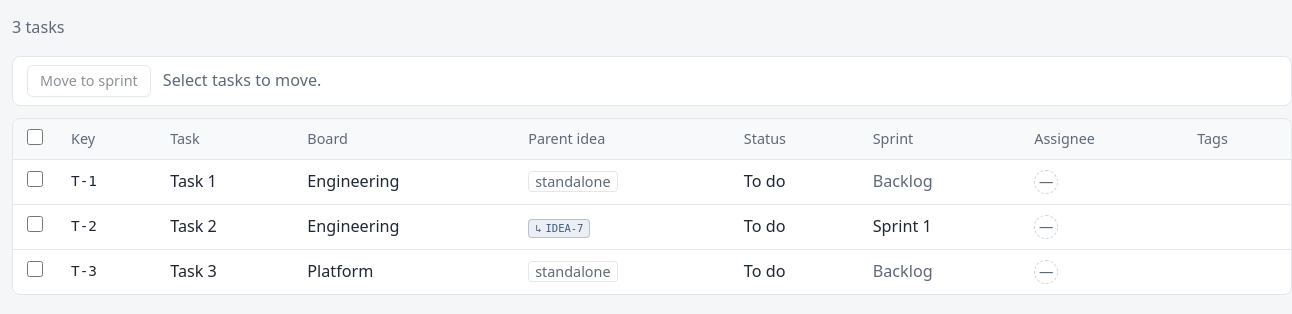
Scenario: selection and Move to sprint › enables the action for tasks from one board and offers that board’s open sprints
The image size is (1292, 314).
What coordinates should you click on to do the following:
click the checkbox named "Select T-1"
I would click on:
 (35, 179)
Its box is [27,171,43,187].
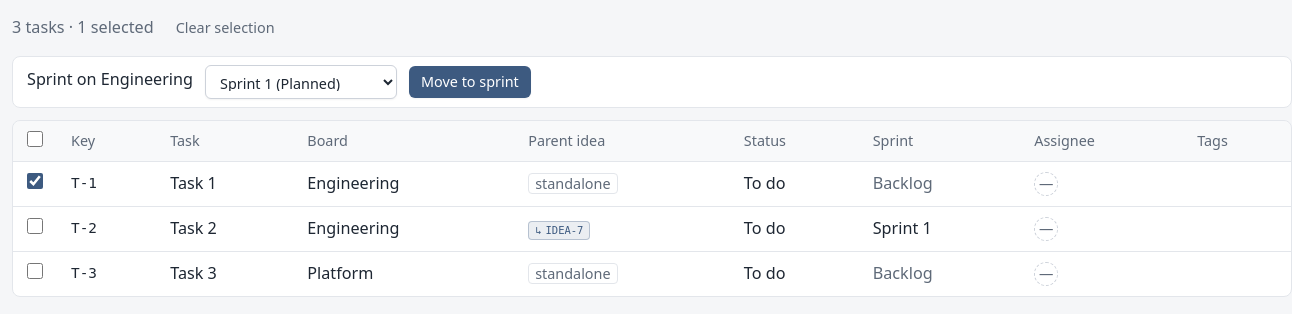
What coordinates should you click on to do the following:
click the checkbox named "Select T-2"
I would click on:
 (35, 226)
Its box is [27,218,43,234].
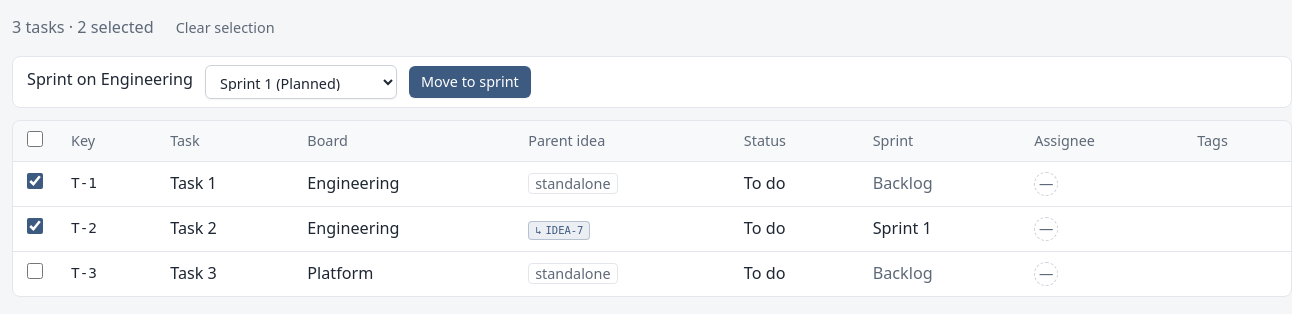
Now the message shows "2 selected", box [64,16,154,38]
